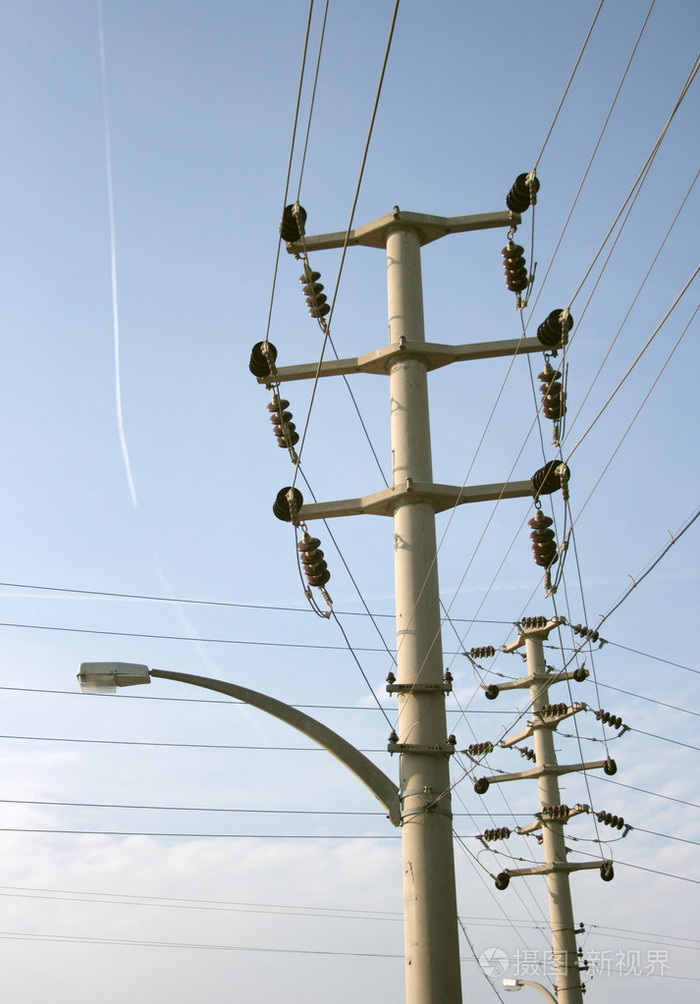insulator: (295, 535, 330, 585), (534, 369, 567, 419), (529, 511, 559, 566), (298, 270, 331, 319), (266, 397, 296, 450), (501, 240, 527, 292)
